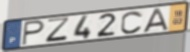2: (97, 12, 118, 39)
4: (72, 14, 93, 41)
A: (142, 7, 170, 34)
C: (119, 10, 144, 35)
P: (20, 19, 46, 47)
Z: (45, 16, 72, 44)
